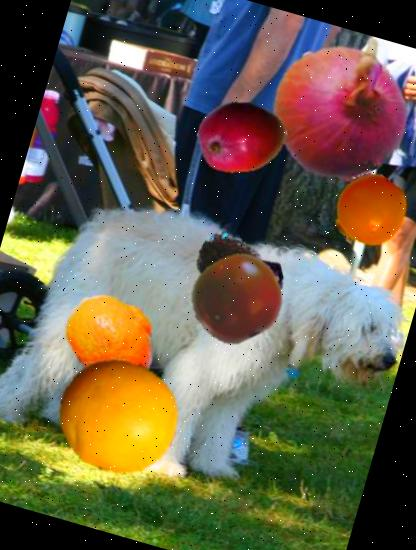Dates: (182, 229, 296, 342)
Grapefruit: (44, 342, 192, 490)
Mandarine: (50, 277, 174, 401)
Mango: (186, 82, 297, 192)
Onion: (255, 28, 416, 196)
Physalis: (322, 166, 414, 258)
Rambutan: (186, 224, 271, 310)
Tomato: (180, 241, 294, 355)
